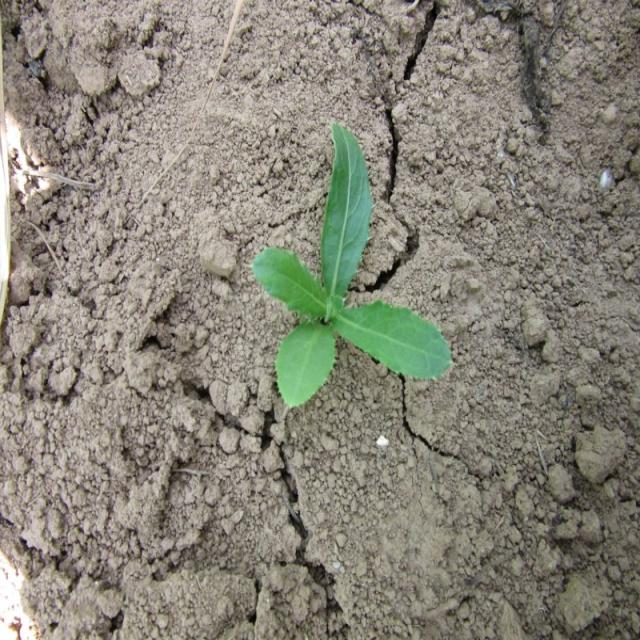field_thistle: (250, 128, 450, 442)
